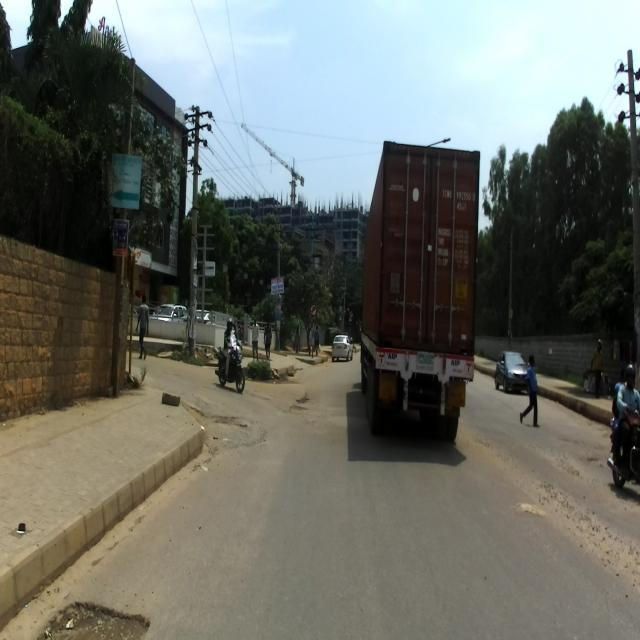Pothole: (38, 602, 149, 639)
